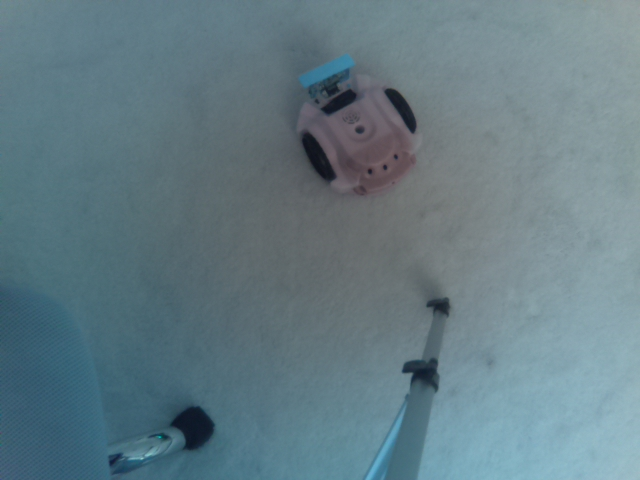board: (292, 51, 356, 99)
chassis: (288, 46, 429, 212)
